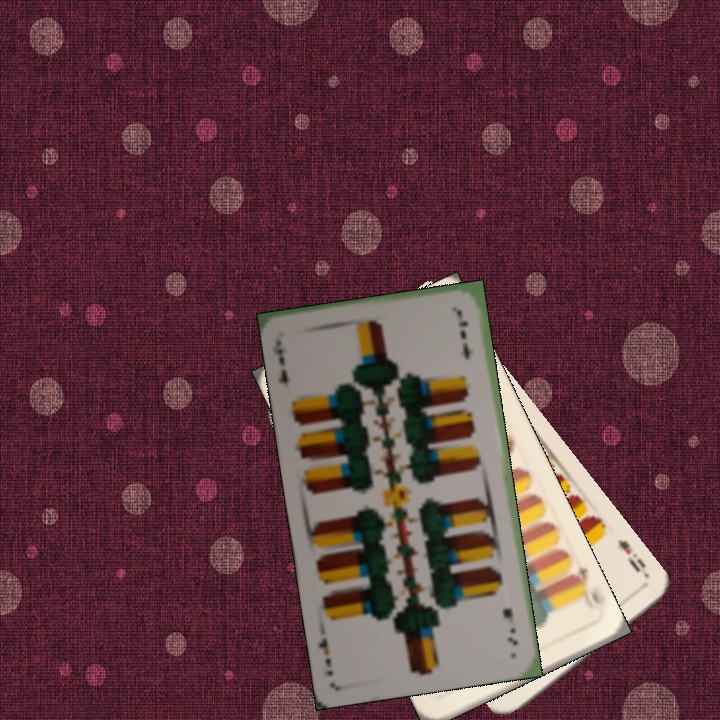E10: (565, 562, 607, 618)
E7: (269, 336, 291, 387), (499, 604, 521, 648)
E9: (613, 535, 649, 575)
